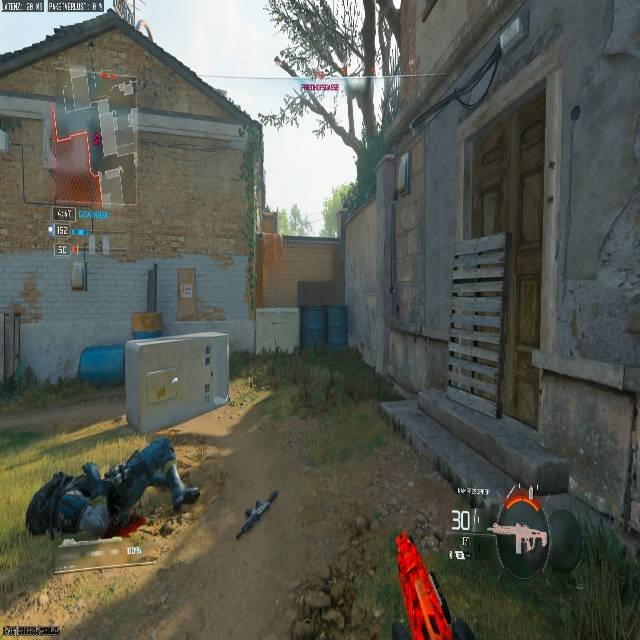head: (25, 486, 72, 535)
